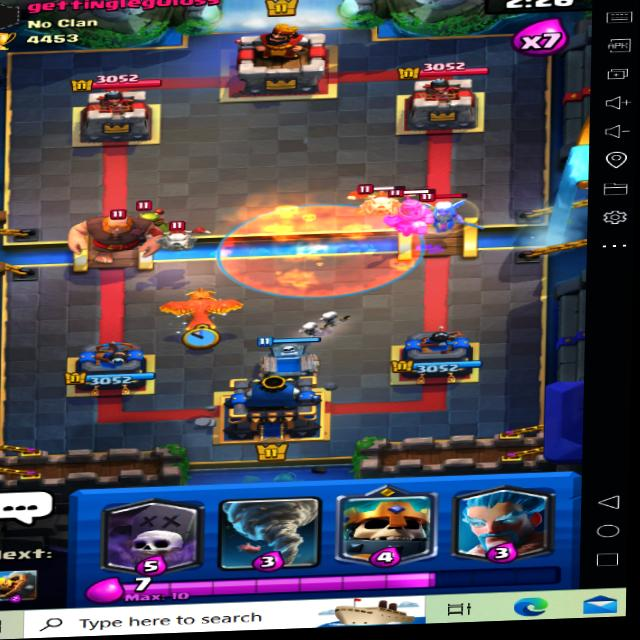battle-healer: (417, 195, 472, 238)
giant: (71, 203, 165, 264)
goblin-demolisher: (114, 200, 179, 235)
prince: (384, 189, 438, 239)
skeleton-dragon: (350, 178, 409, 216), (152, 218, 208, 253)
